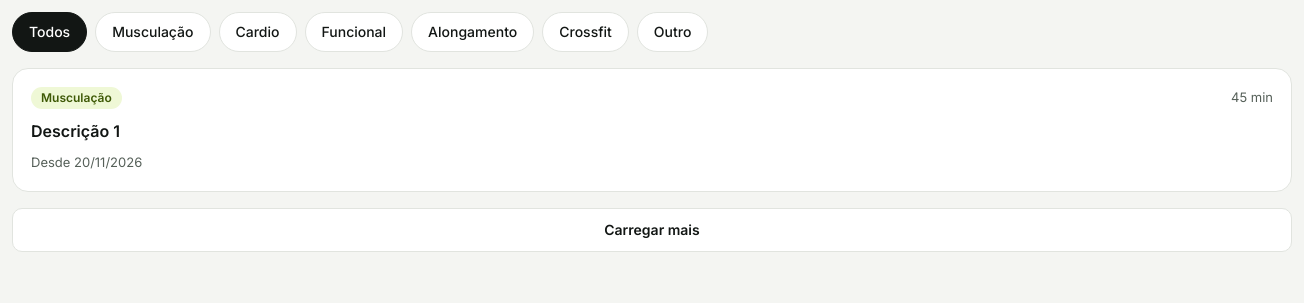
Test case: MeusTreinos › mantém os cards e mostra o erro quando o Carregar mais falha
This screenshot has width=1304, height=303.
Click the button "Carregar mais". click: (652, 230)
box: [12,208,1292,252]
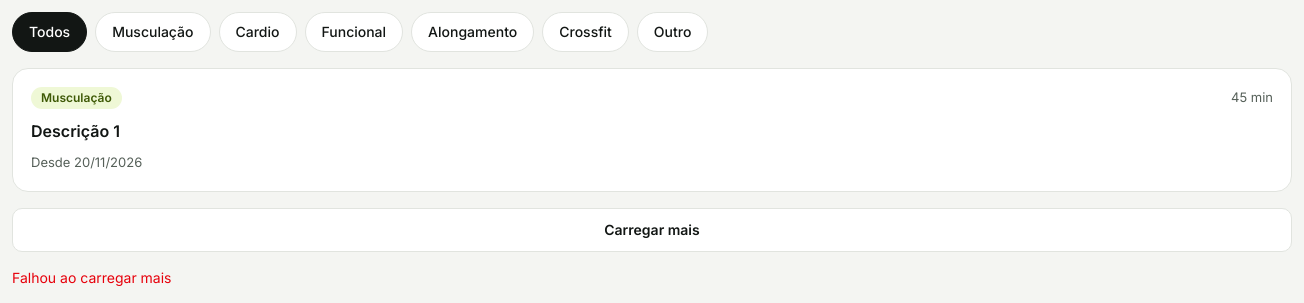
expect the text "Descrição 1" is shown: met, box [31,119,120,143]
expect the message reads "Falhou ao carregar mais": met, box [12,268,172,286]
